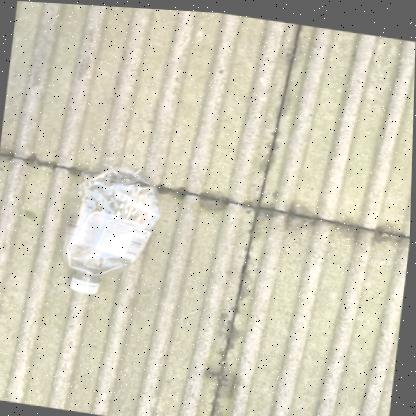Plastic: (64, 164, 161, 292)
